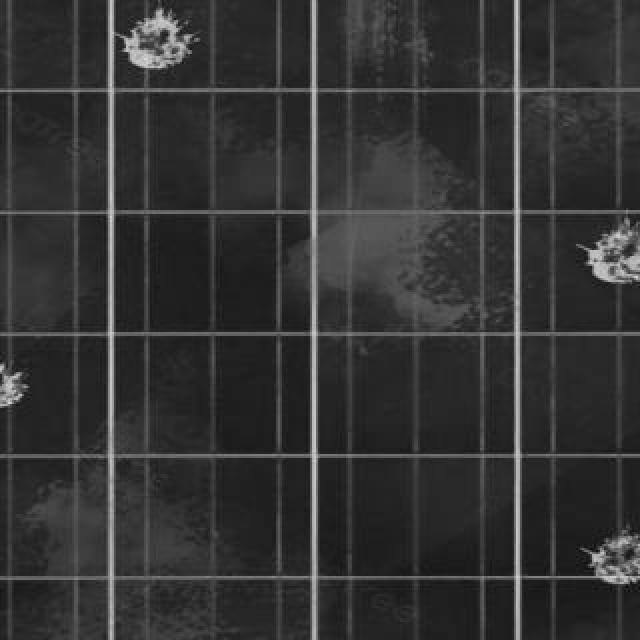Physical-damage: (110, 4, 204, 74), (575, 212, 640, 298), (579, 525, 640, 597), (0, 346, 32, 422)
